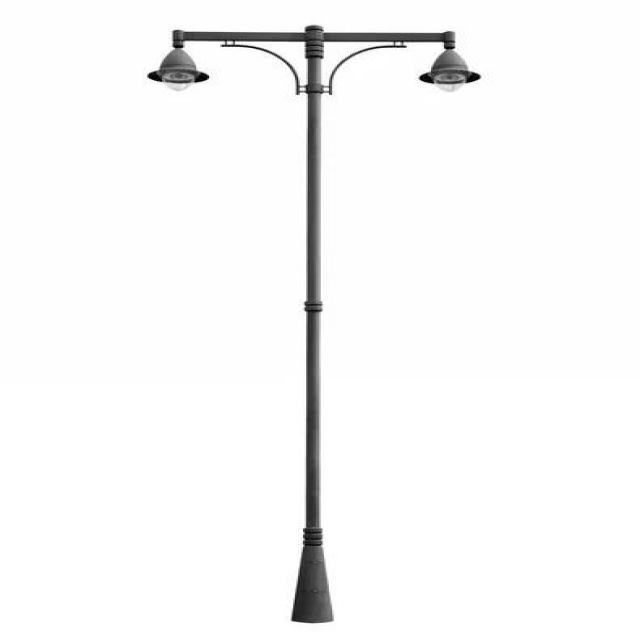Pole: (170, 24, 478, 624)
